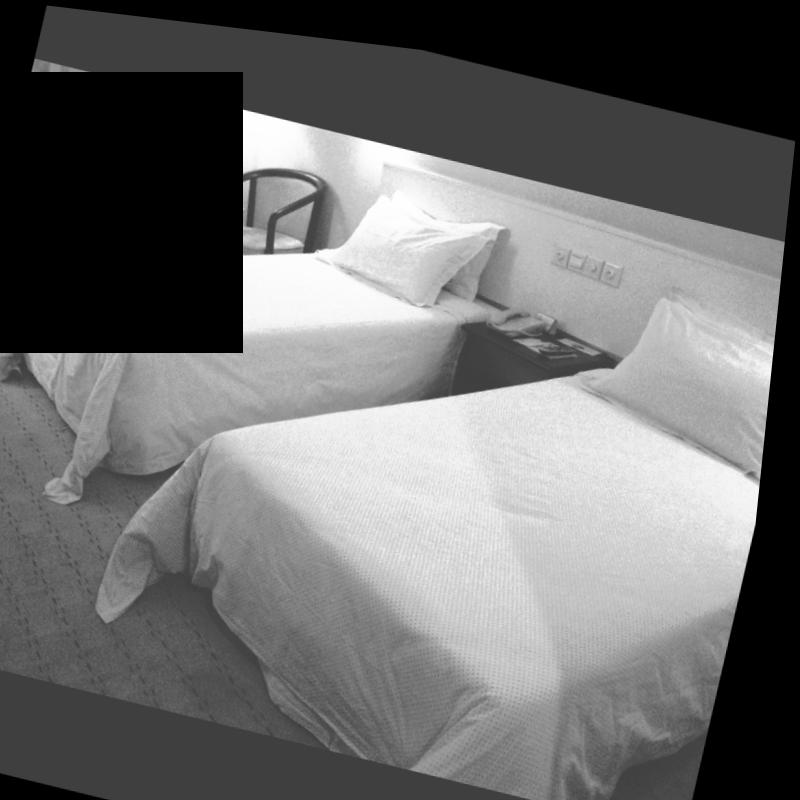pillow: (596, 249, 784, 451), (308, 173, 502, 310), (374, 177, 511, 287), (668, 268, 783, 331)
